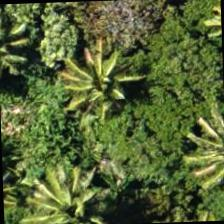Kelapa_Sawit: (64, 36, 158, 130), (2, 163, 90, 223), (0, 2, 54, 86)
